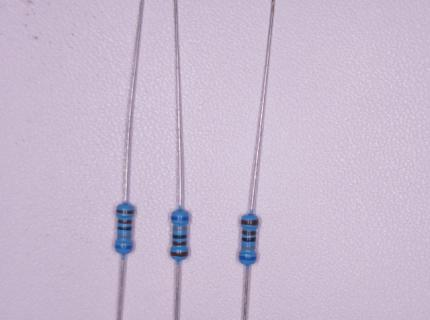Black band: (242, 237, 256, 242), (118, 226, 132, 230), (173, 235, 187, 239)
Blue band: (171, 216, 189, 221), (239, 255, 256, 260), (115, 245, 133, 249)
Brown band: (170, 251, 188, 257), (241, 219, 258, 225), (116, 209, 134, 214), (242, 230, 256, 235), (118, 219, 132, 224), (173, 241, 186, 246)
Grey band: (173, 226, 187, 231), (241, 245, 255, 249), (118, 234, 131, 238)
